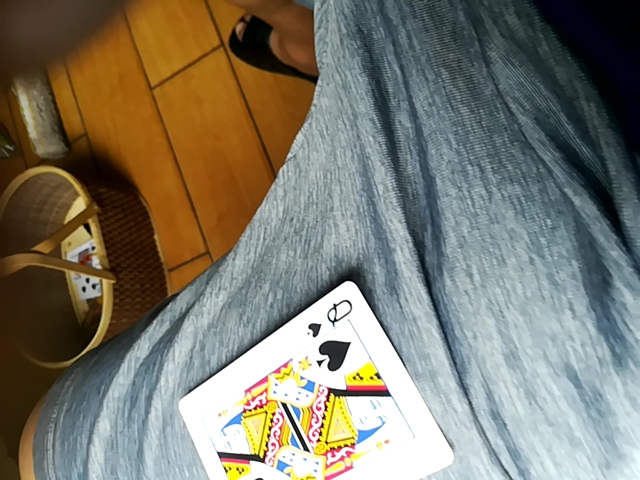ht q: (181, 280, 453, 477)
